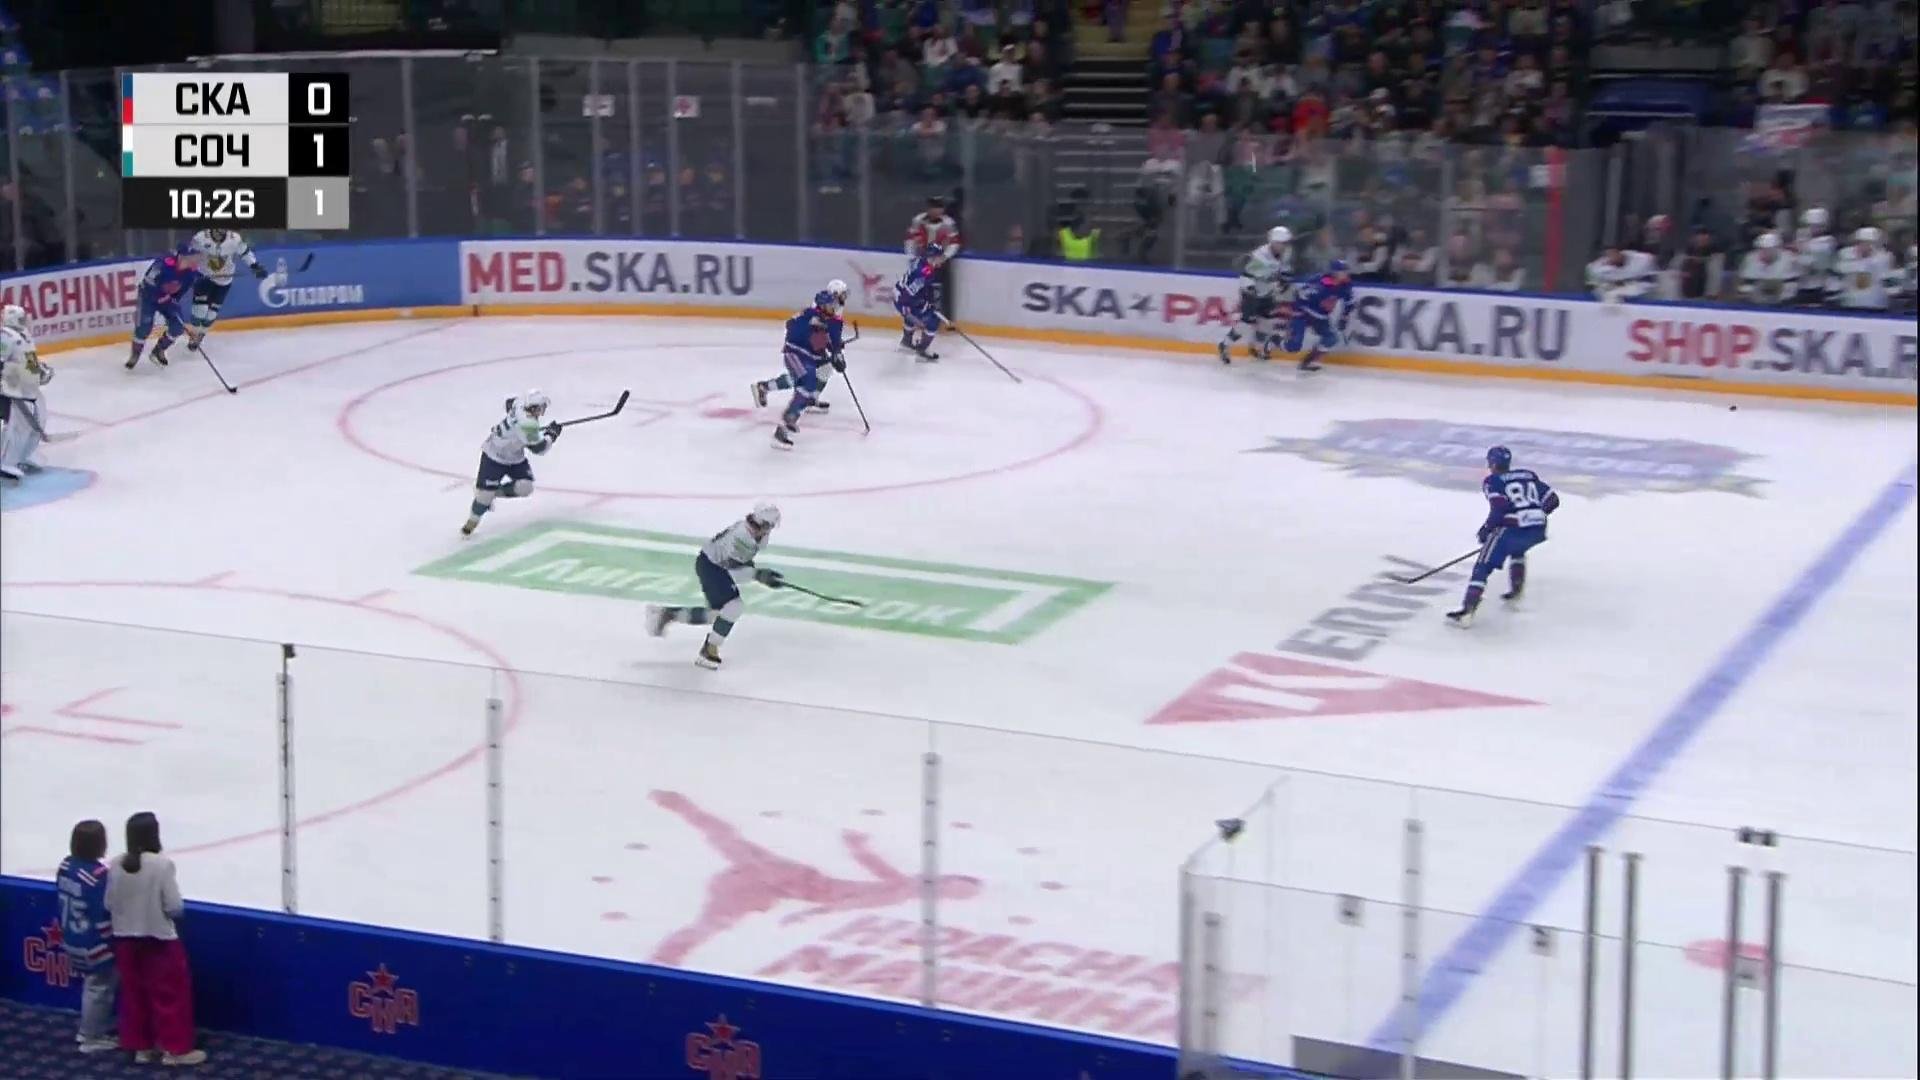ball: (1729, 406, 1737, 411)
